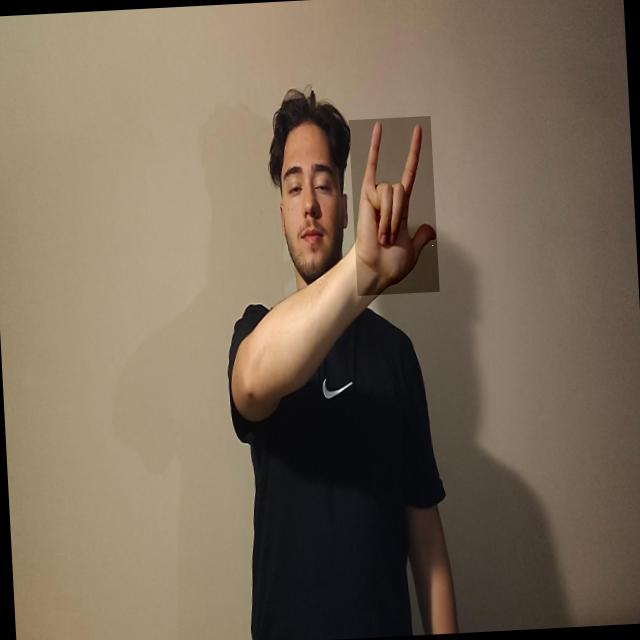iloveyou: (348, 116, 439, 296)
